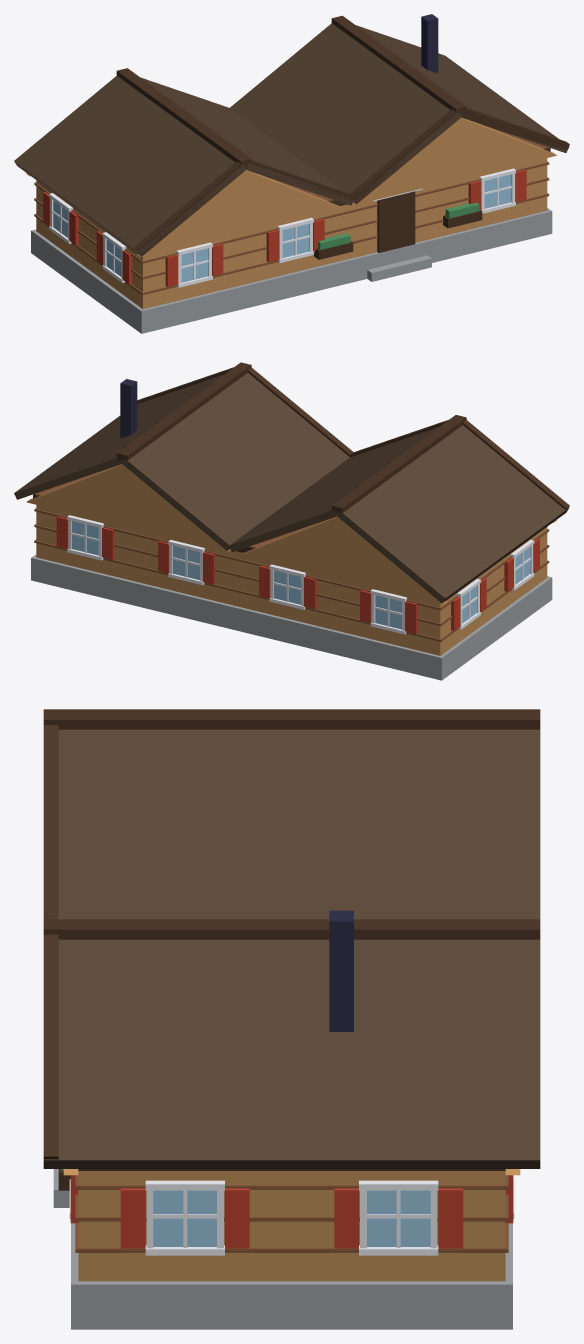
File: house-2x1-1f-chalet-a.glb
3 renders of one model, top to bottom at view 1: azimuth 30°, elevation 25°; view 2: azimuth 150°, elevation 25°; view 3: azimuth 270°, elevation 25°, orthographic. The views are drawn at different scales.
Visible parts, largest first — view 1: house-2x1-1f-chalet-a; view 2: house-2x1-1f-chalet-a; view 3: house-2x1-1f-chalet-a.
Part boxes in pixels (left/top/right/bottom): house-2x1-1f-chalet-a: left=14, top=14, right=569, bottom=333; house-2x1-1f-chalet-a: left=14, top=362, right=569, bottom=680; house-2x1-1f-chalet-a: left=43, top=709, right=540, bottom=1329.
Bounding box in the file's own units: 2.01 × 0.8 × 1.
Materials: 1 (1 with a texture image).
